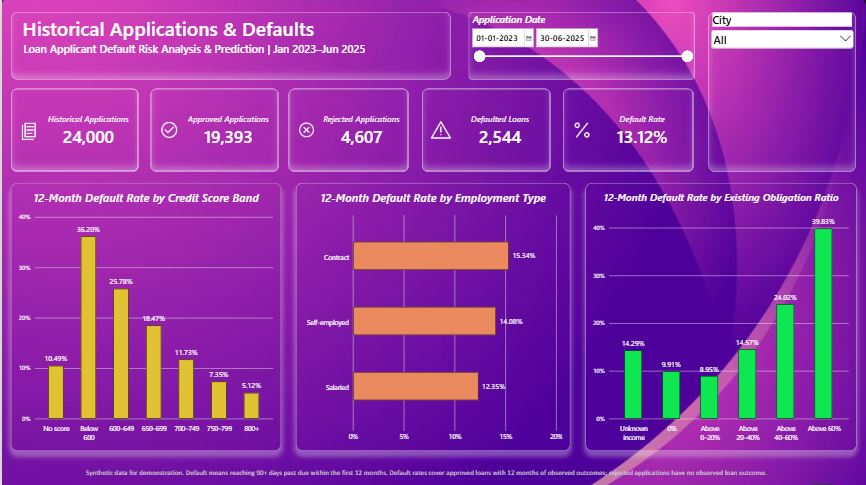

Layout of this report page (visuals, bound fields, positions):
{"tool":"powerbi","page":{"name":"Historical Applications & Defaults","canvas":[1920,1080],"ordinal":0},"visuals":[{"type":"cardVisual","fields":{"Data":["Applications.Historical Applications"]},"box":[20,197.5,283.7,185.2],"z":0},{"type":"cardVisual","fields":{"Data":["Applications.Approved Applications"]},"box":[330,197.5,285,185],"z":1000},{"type":"cardVisual","fields":{"Data":["Applications.Rejected Applications"]},"box":[637.5,197.5,267.5,185],"z":2000},{"type":"cardVisual","fields":{"Data":["Applications.Defaulted Loans"]},"box":[933.1,196.9,286,185.2],"z":3000},{"type":"cardVisual","fields":{"Data":["Applications.Default Rate"]},"box":[1247.3,196.9,290.7,185.2],"z":4000},{"type":"clusteredBarChart","title":"12-Month Default Rate by Employment Type","fields":{"Category":["Applications.Employment_Type"],"Y":["Applications.Default Rate"]},"box":[654.1,405.6,609.6,595.5],"z":5000},{"type":"clusteredColumnChart","title":"12-Month Default Rate by Credit Score Band","fields":{"Category":["Applications.Credit Score Band"],"Y":["Applications.Default Rate"]},"box":[20,405,600,595],"z":6000},{"type":"clusteredColumnChart","title":"12-Month Default Rate by Existing Obligation Ratio","fields":{"Category":["Applications.Obligation Band"],"Y":["Applications.Default Rate"]},"box":[1295,405,602.5,595],"z":7000},{"type":"slicer","fields":{"Values":["Applications.City"]},"box":[1570,27.5,327.5,355],"z":8000},{"type":"slicer","fields":{"Values":["Applications.Application_Date"]},"box":[1035,27.5,502.5,150],"z":8001},{"type":"textbox","box":[185.2,1038.6,1695.1,42.2],"z":8002},{"type":"textbox","box":[20,27.5,977.5,150],"z":8003}]}

Visuals, with their boxes in screenshot pixels (x1, y1, x2, y2), scaled from the page's 1920x1080 canvas onto the 866x485 screenshot:
cardVisual - Applications.Historical Applications: [x1=9, y1=89, x2=137, y2=172]
cardVisual - Applications.Approved Applications: [x1=149, y1=89, x2=277, y2=172]
cardVisual - Applications.Rejected Applications: [x1=288, y1=89, x2=408, y2=172]
cardVisual - Applications.Defaulted Loans: [x1=421, y1=88, x2=550, y2=172]
cardVisual - Applications.Default Rate: [x1=563, y1=88, x2=694, y2=172]
"12-Month Default Rate by Employment Type" clusteredBarChart: [x1=295, y1=182, x2=570, y2=450]
"12-Month Default Rate by Credit Score Band" clusteredColumnChart: [x1=9, y1=182, x2=280, y2=449]
"12-Month Default Rate by Existing Obligation Ratio" clusteredColumnChart: [x1=584, y1=182, x2=856, y2=449]
slicer - Applications.City: [x1=708, y1=12, x2=856, y2=172]
slicer - Applications.Application_Date: [x1=467, y1=12, x2=693, y2=80]
textbox: [x1=84, y1=466, x2=848, y2=484]
textbox: [x1=9, y1=12, x2=450, y2=80]
